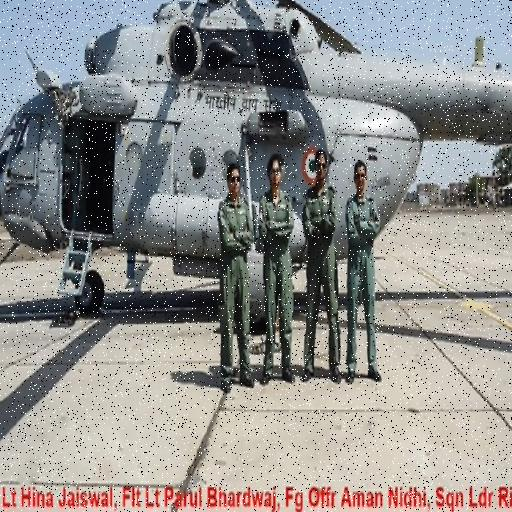helicopter: (1, 1, 512, 333)
